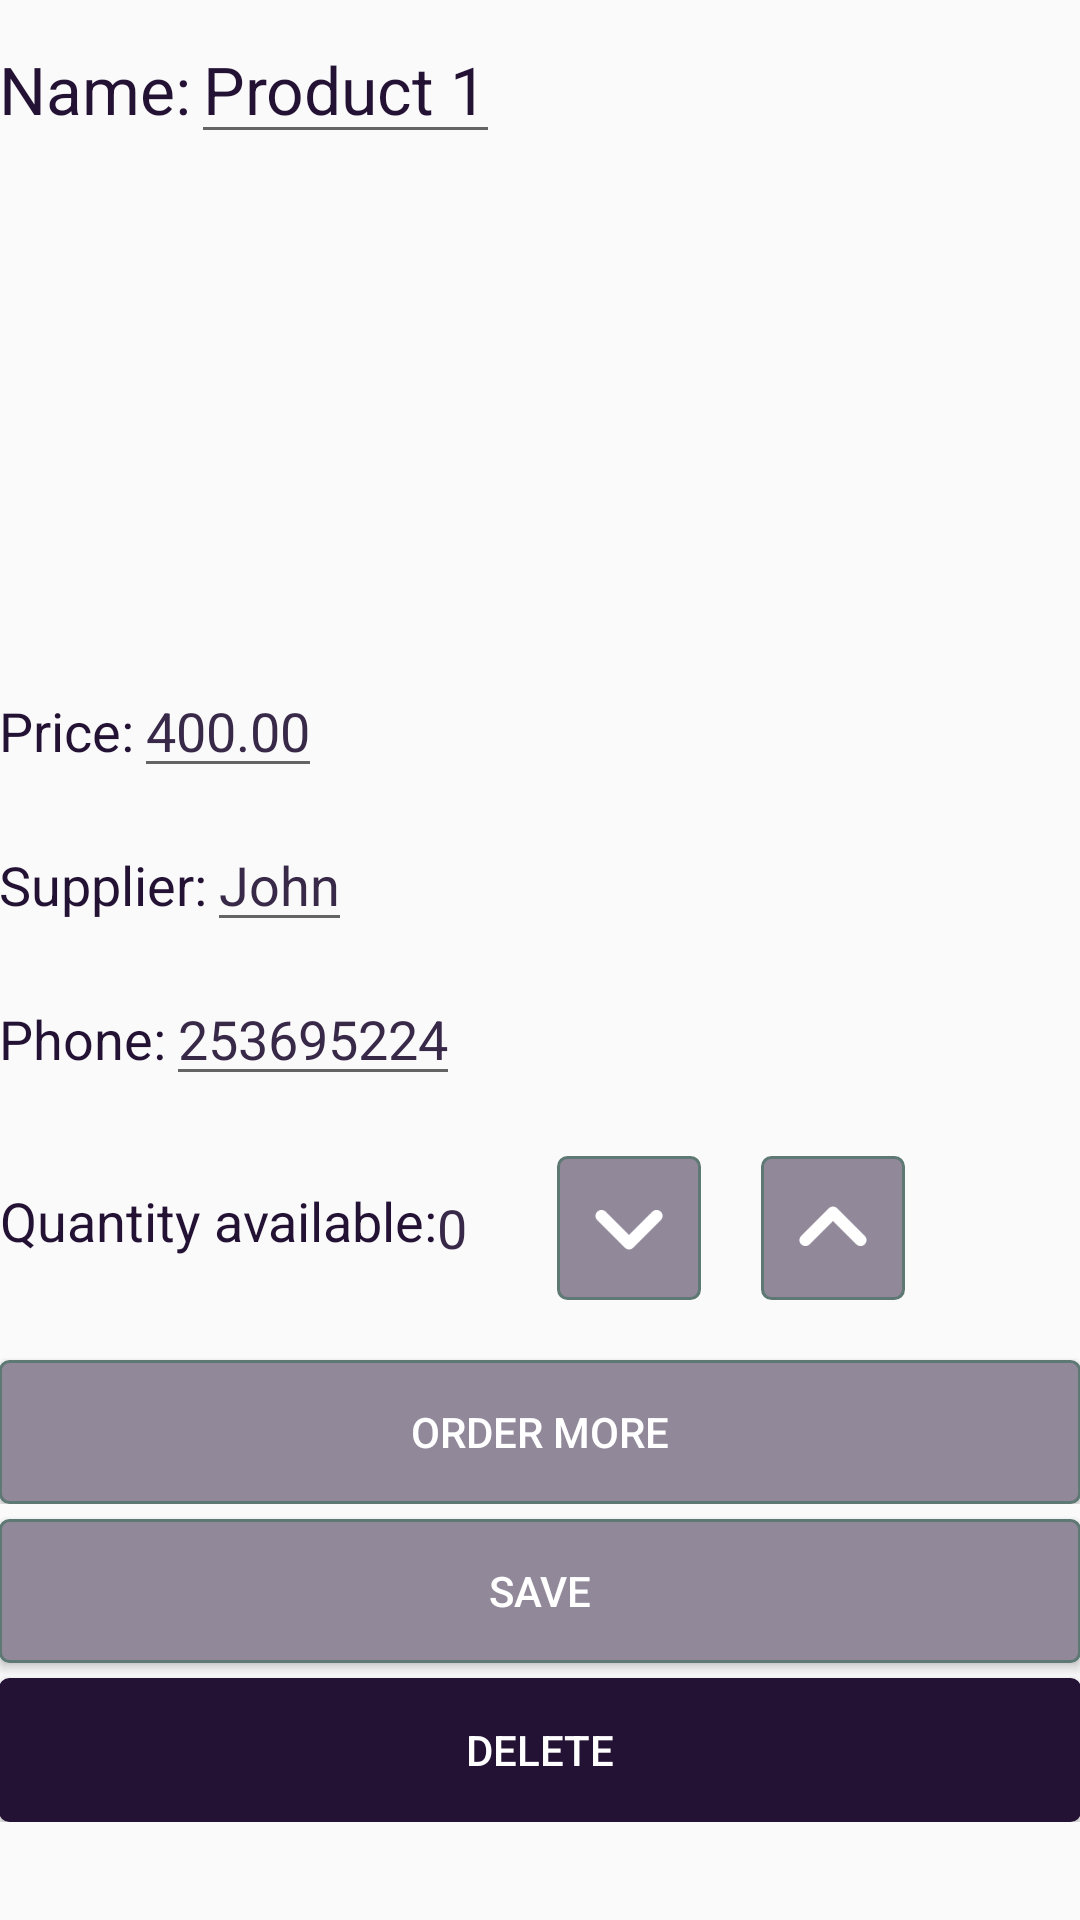

Where icons sit on this 1080*1920 app screen, as region(x1, y1, x2, y2):
expand less: region(761, 1156, 905, 1300)
expand more: region(557, 1156, 701, 1300)
